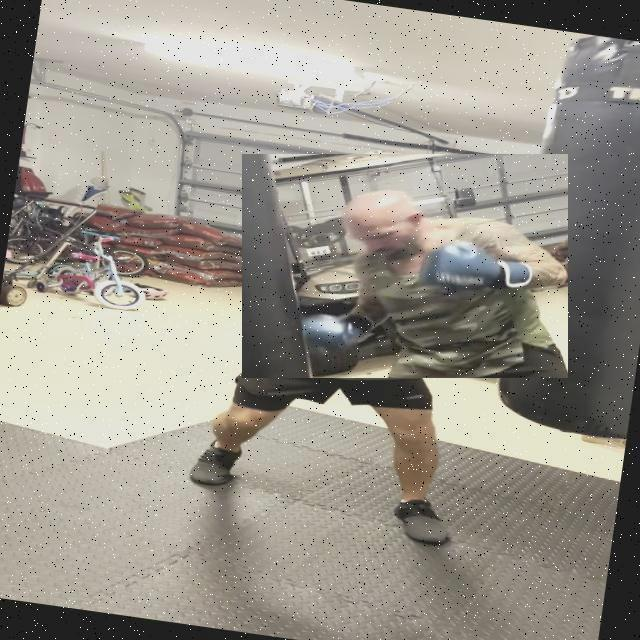punch: (242, 154, 568, 378)
